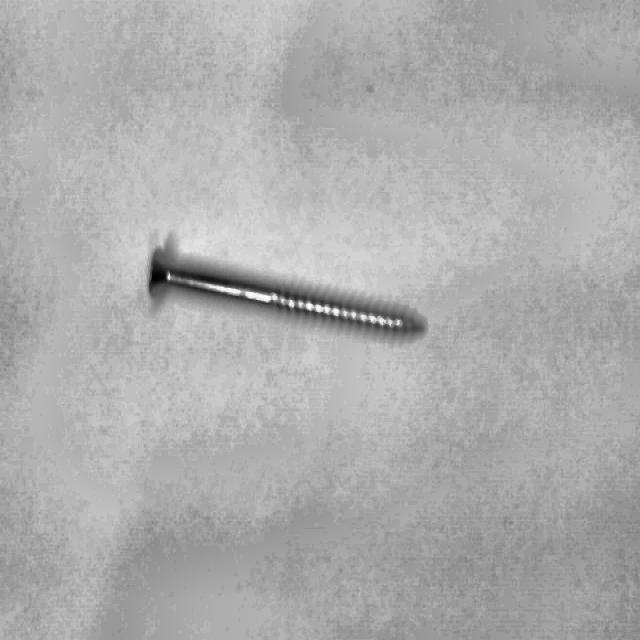Wood screw: (147, 245, 425, 336)
